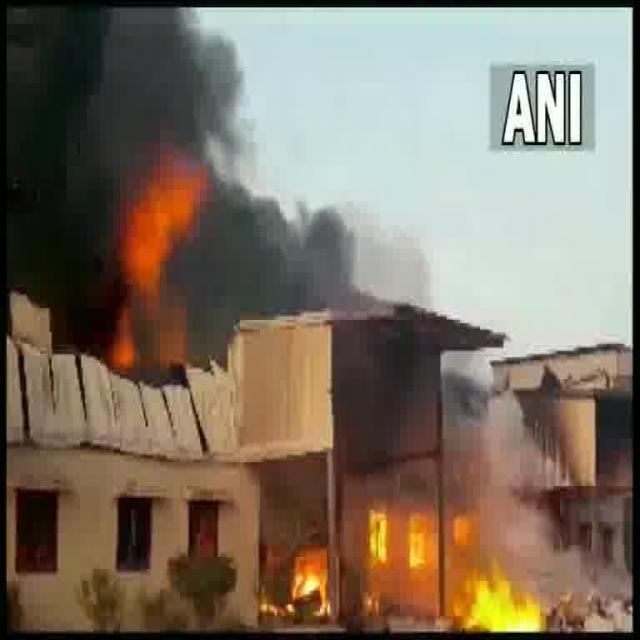Smoke: (30, 23, 170, 170), (192, 232, 328, 308)
